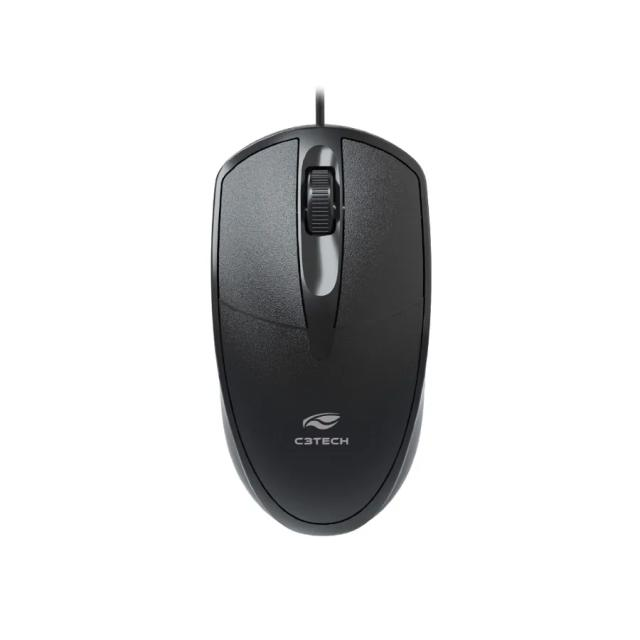mouse: (212, 126, 430, 535)
